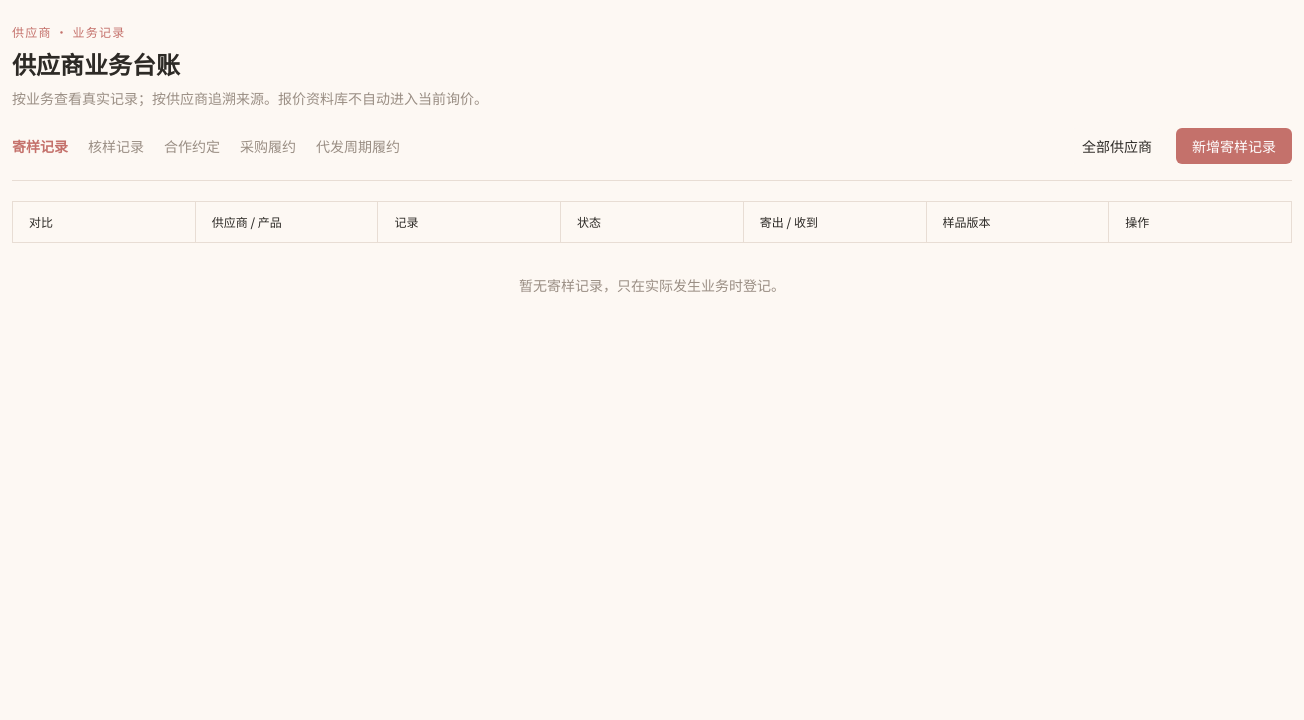
Scenario: keeps dropship records out of the overview and exposes them through the batch view
Step 1. Click the button "代发周期履约" → (358, 146), box [316, 136, 400, 156]
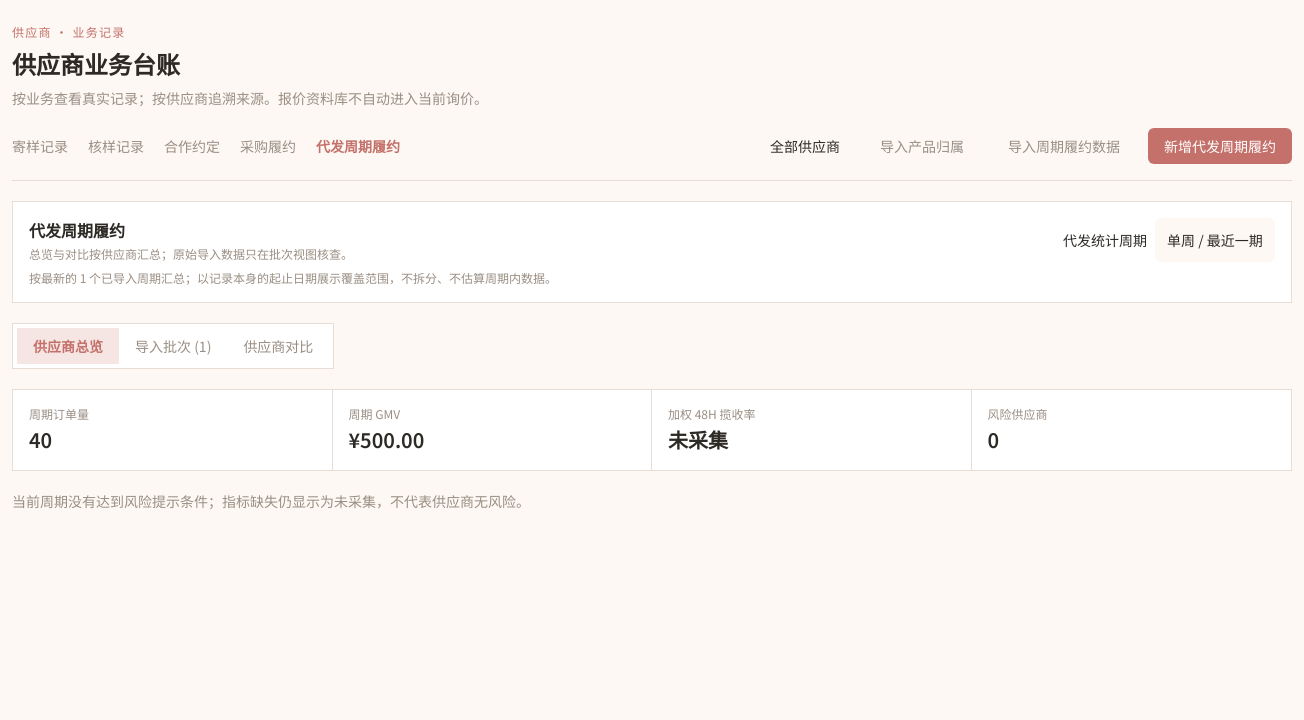
Step 2. Click the tab "导入批次 (1)" → (173, 346), box [119, 328, 227, 364]
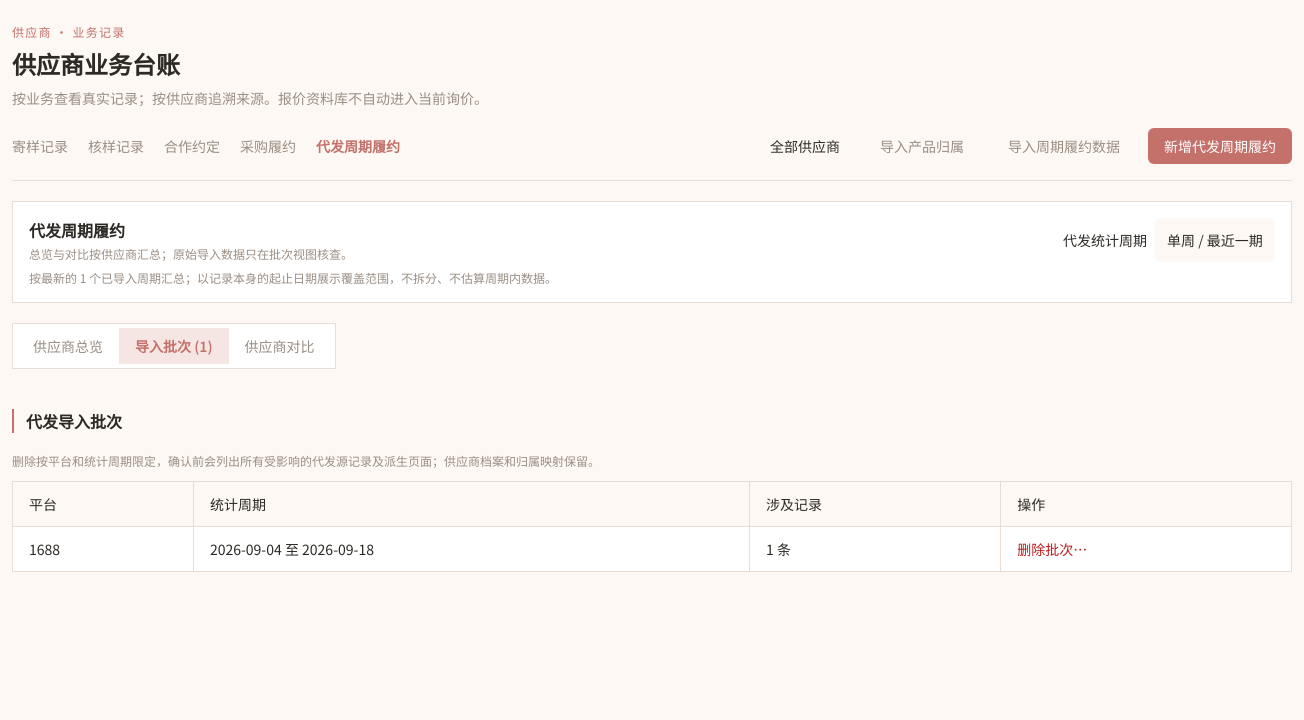
Now the text "2026-09-04 至 2026-09-18" is shown, box [193, 526, 750, 572]
